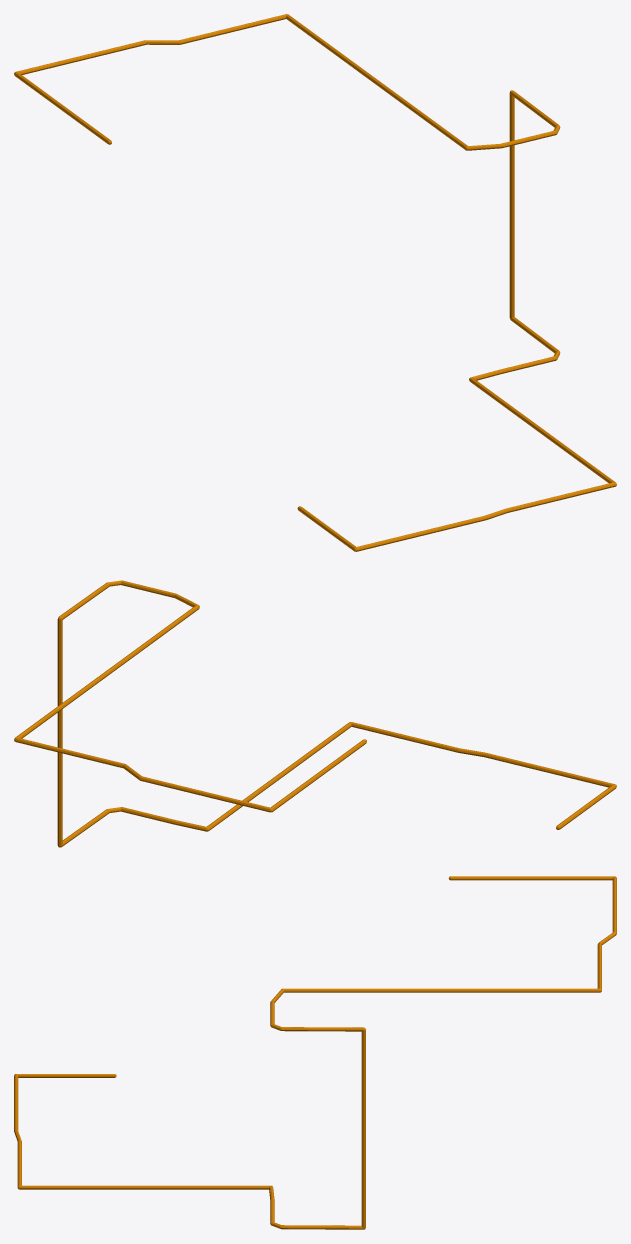
3 views of the same model, one above another, from view 1: azimuth 30°, elevation 25°; view 2: azimuth 150°, elevation 25°; view 3: azimuth 270°, elevation 25° (orthographic). The views are drawn at different scales.
Bounding box in the file's own units: 1663 × 1020 × 2759.
